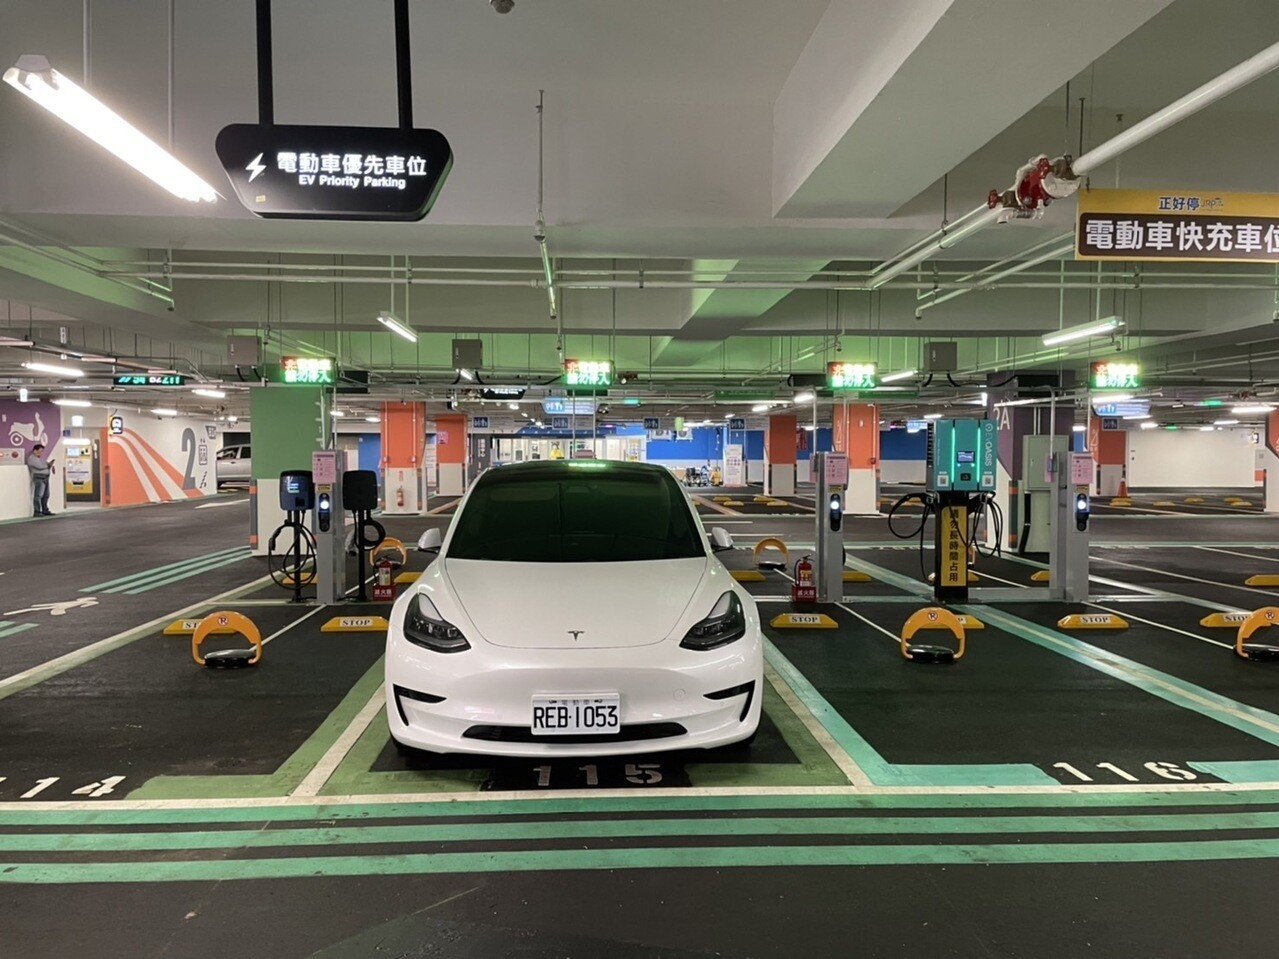car: (380, 454, 770, 779)
